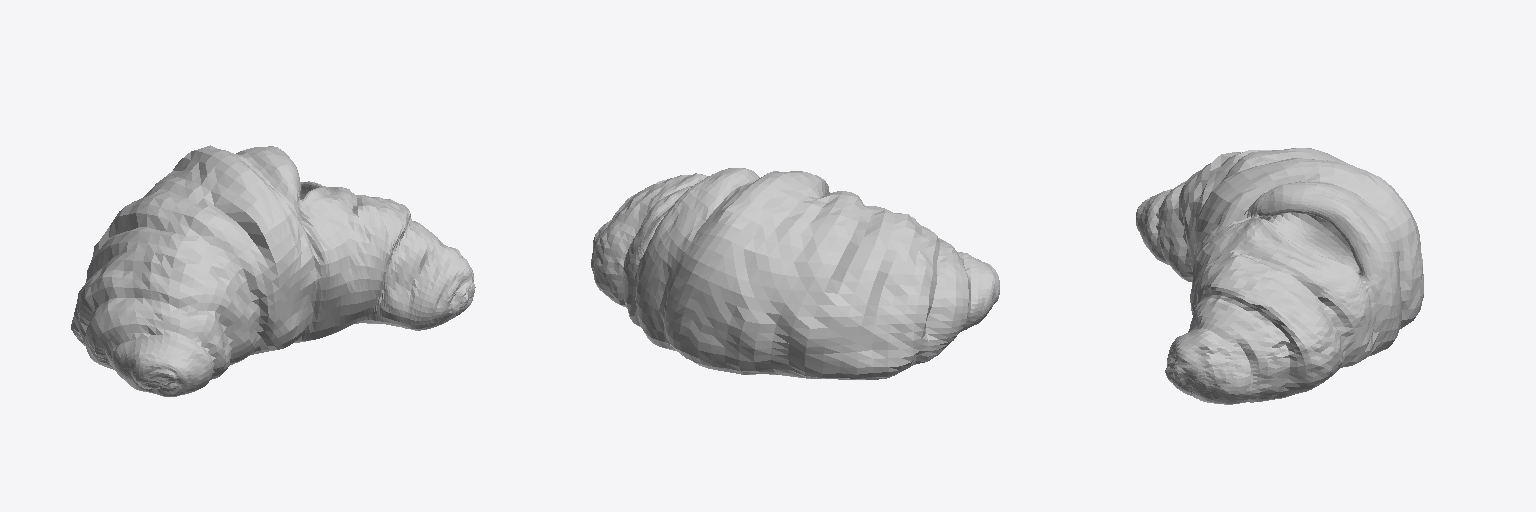
File: Bread_Lvl3.obj
3 views of the same model, side by side, from view 1: azimuth 30°, elevation 25°; view 2: azimuth 150°, elevation 25°; view 3: azimuth 270°, elevation 25° (orthographic).
Visible parts, largest first — view 1: ZBrush_defualt_group; view 2: ZBrush_defualt_group; view 3: ZBrush_defualt_group.
Part boxes in pixels (x1,y1,x2,y2): ZBrush_defualt_group: (71,145,475,396); ZBrush_defualt_group: (591,168,999,379); ZBrush_defualt_group: (1136,148,1423,404).
Bounding box in the file's own units: 247 × 116 × 172.